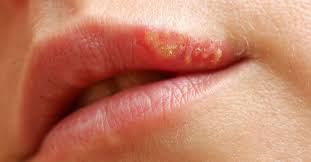herpes: (138, 6, 259, 129)
